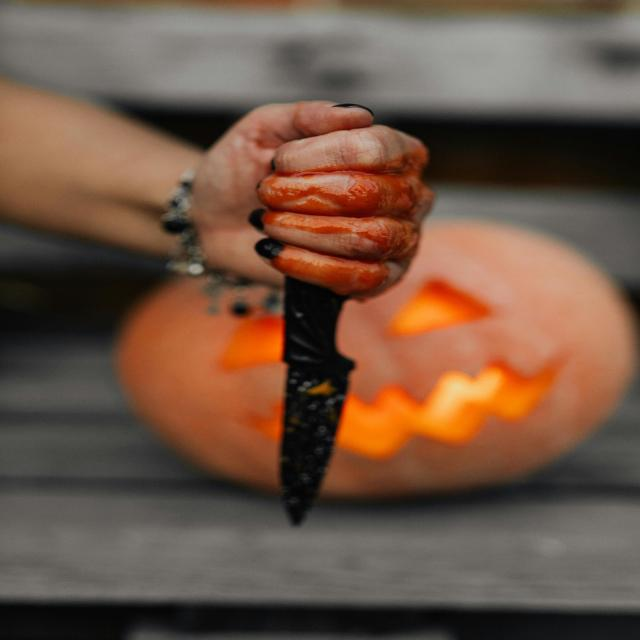knife: (279, 271, 355, 530)
